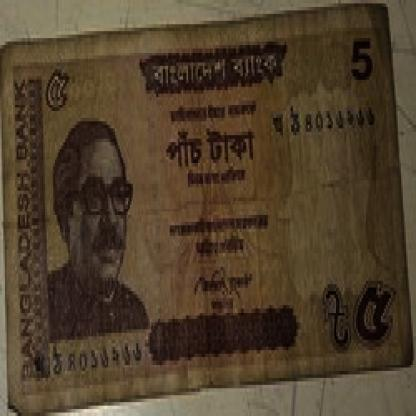Five Taka: (351, 270, 398, 347), (162, 128, 256, 166), (38, 59, 70, 118), (348, 31, 376, 94)
